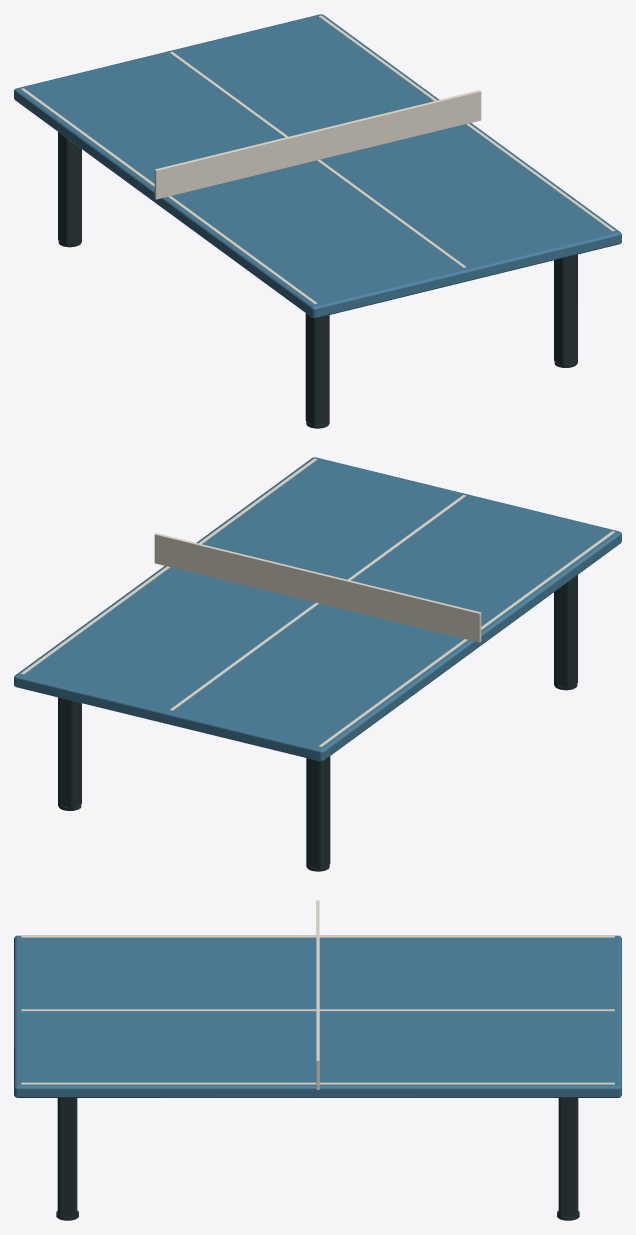
Rendered from wp-table-de-ping-pong.glb.
3 renders of one model, top to bottom at view 1: azimuth 30°, elevation 25°; view 2: azimuth 150°, elevation 25°; view 3: azimuth 270°, elevation 25°, orthographic.
Parts seen in each view (by area): view 1: wp-table-de-ping-pong; view 2: wp-table-de-ping-pong; view 3: wp-table-de-ping-pong.
Boxes of the visible parts, x1,y1,x2,y2 form: wp-table-de-ping-pong: [14, 14, 621, 428]; wp-table-de-ping-pong: [14, 457, 621, 871]; wp-table-de-ping-pong: [14, 900, 621, 1220].
Size of the model in its own units: 1.5 by 0.76 by 2.4.
